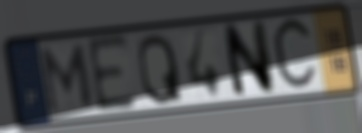4: (187, 27, 226, 102)
C: (269, 13, 320, 97)
E: (84, 31, 139, 117)
M: (40, 42, 97, 117)
N: (219, 18, 277, 101)
Q: (136, 31, 185, 108)
